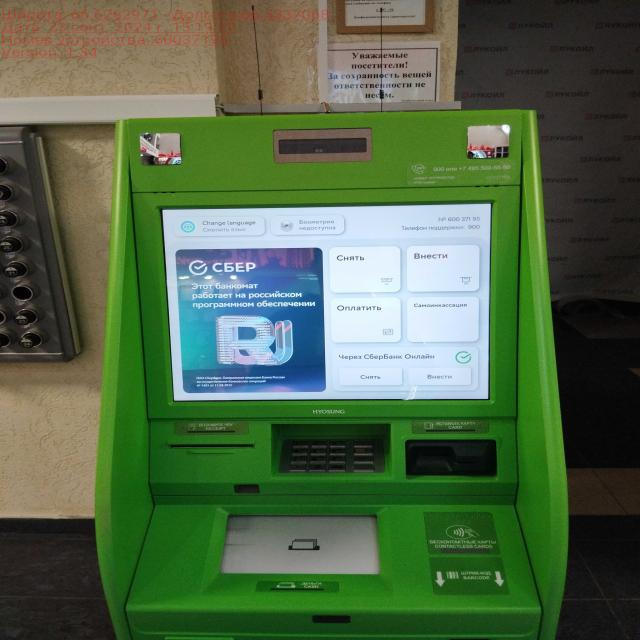bank: (92, 110, 572, 640)
